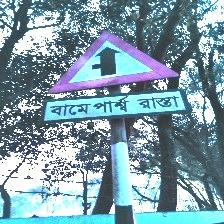Side-road-left: (44, 30, 186, 124)
